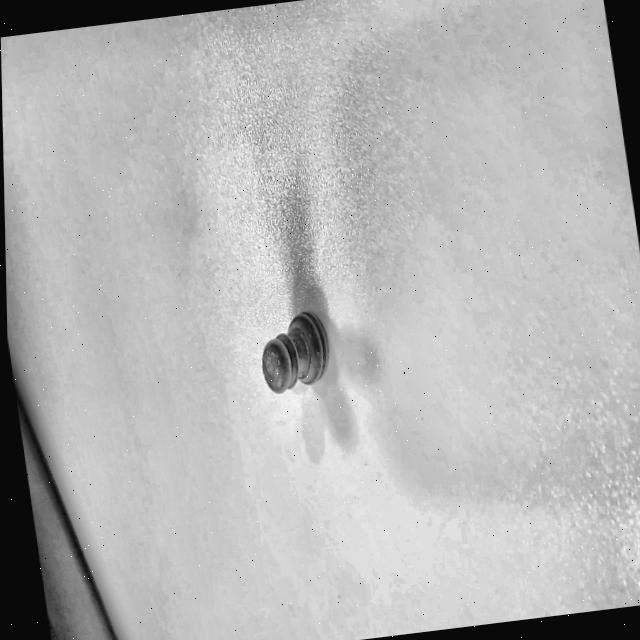black-pawn: (251, 299, 338, 401)
